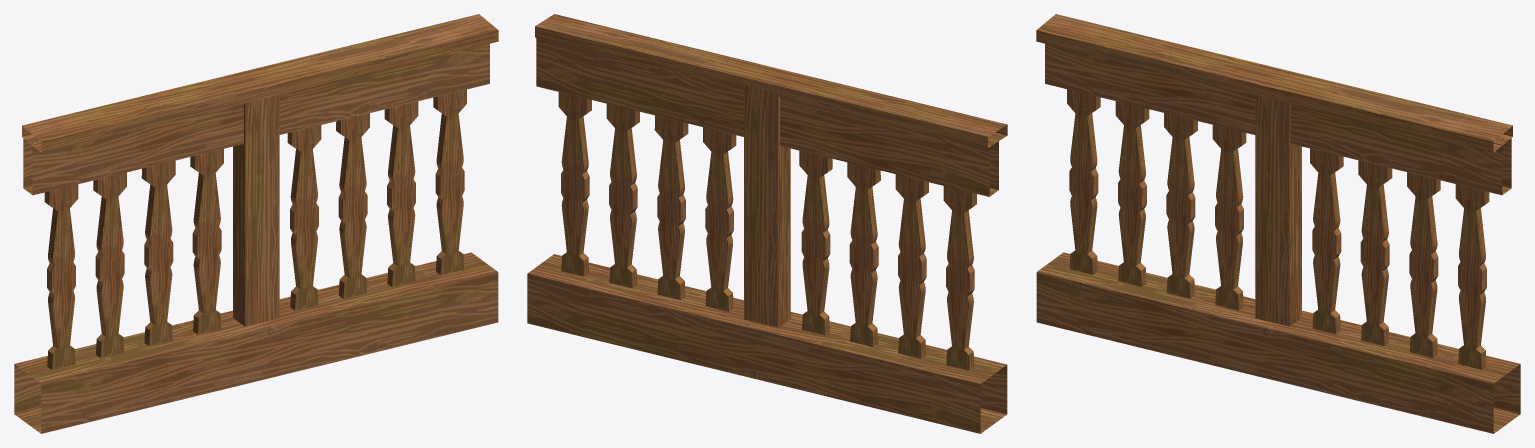
Rendered from Balcony_Simple_Straight.glb.
3 views of the same model, side by side, from view 1: azimuth 30°, elevation 25°; view 2: azimuth 150°, elevation 25°; view 3: azimuth 330°, elevation 25° (orthographic).
Parts seen in each view (by area): view 1: Balcony_Simple_Straight; view 2: Balcony_Simple_Straight; view 3: Balcony_Simple_Straight.
Boxes of the visible parts, bbox=[...] form: Balcony_Simple_Straight: bbox=[14, 14, 498, 433]; Balcony_Simple_Straight: bbox=[527, 14, 1007, 433]; Balcony_Simple_Straight: bbox=[1036, 14, 1520, 433].
Bounding box in the file's own units: 2 × 1.23 × 0.2063.
1 material, 1 textured.
